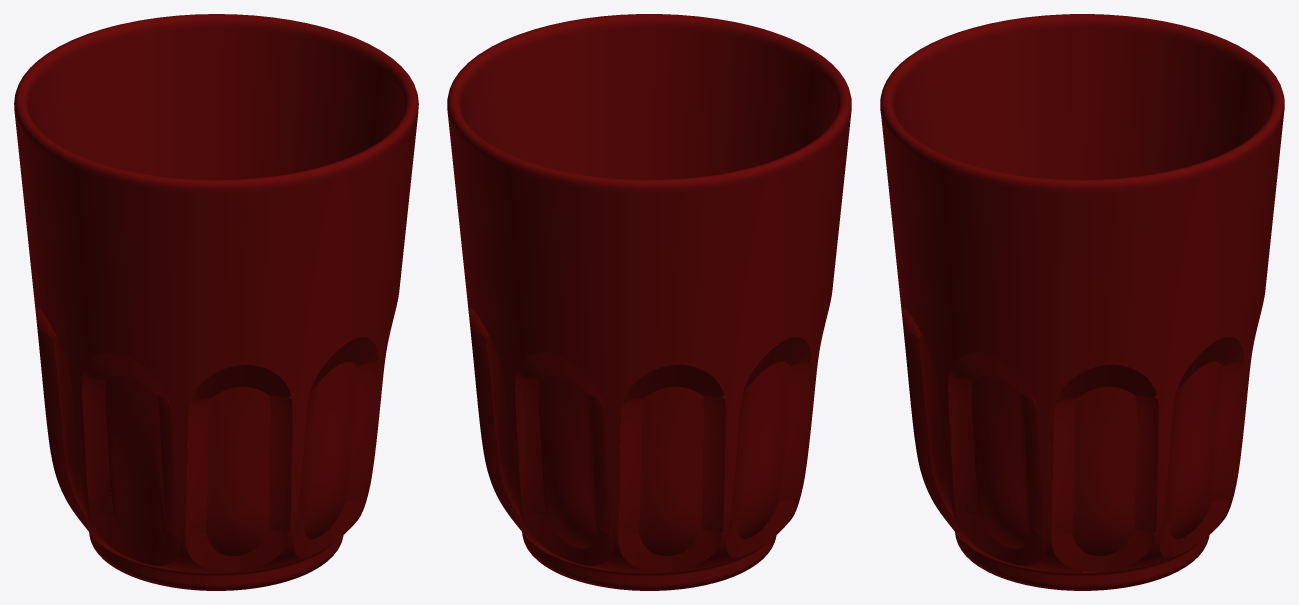
File: azalea.glb
3 views of the same model, side by side, from view 1: azimuth 30°, elevation 25°; view 2: azimuth 150°, elevation 25°; view 3: azimuth 270°, elevation 25° (orthographic).
Bounding box in the file's own units: 0.0701 × 0.0847 × 0.0701.
